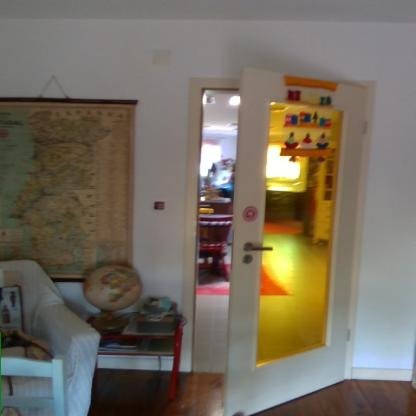semi: (171, 75, 365, 381)
